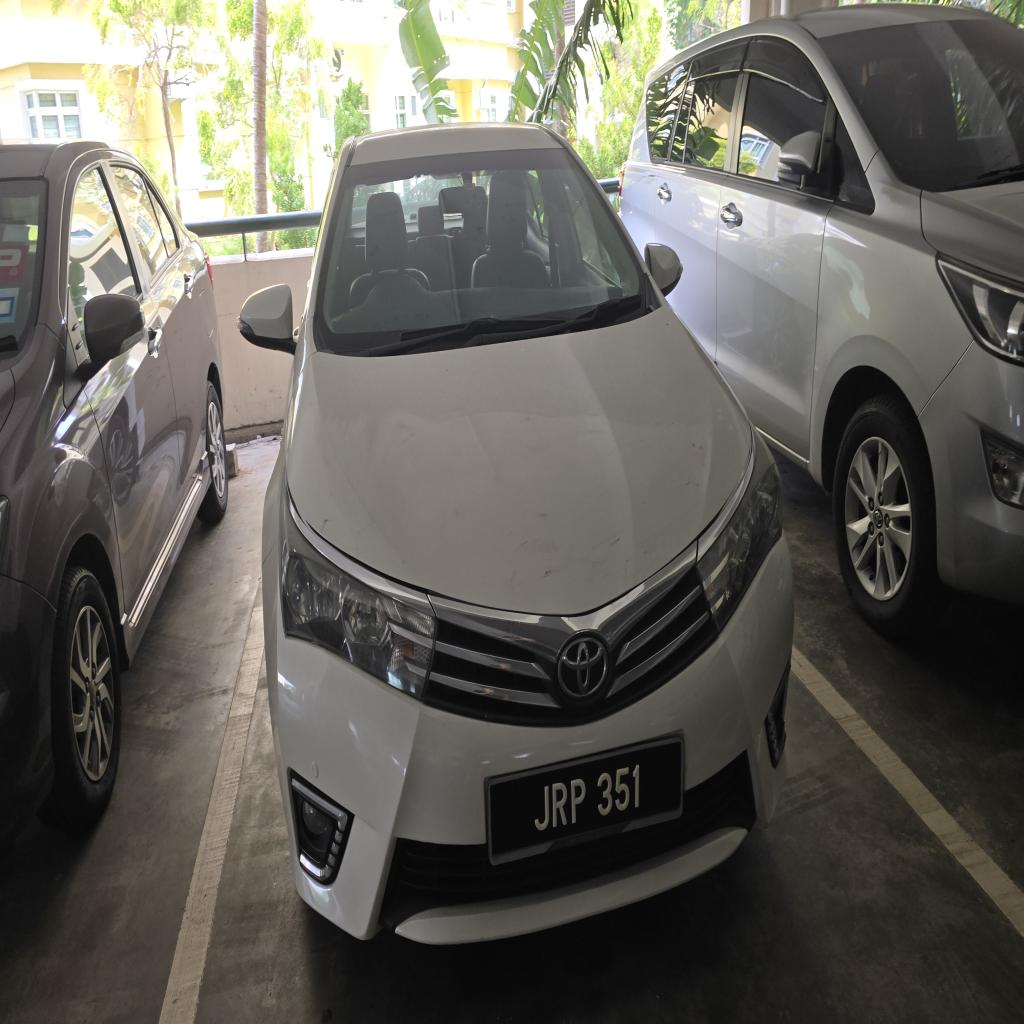car: (240, 126, 793, 943)
car plate: (488, 738, 683, 863)
